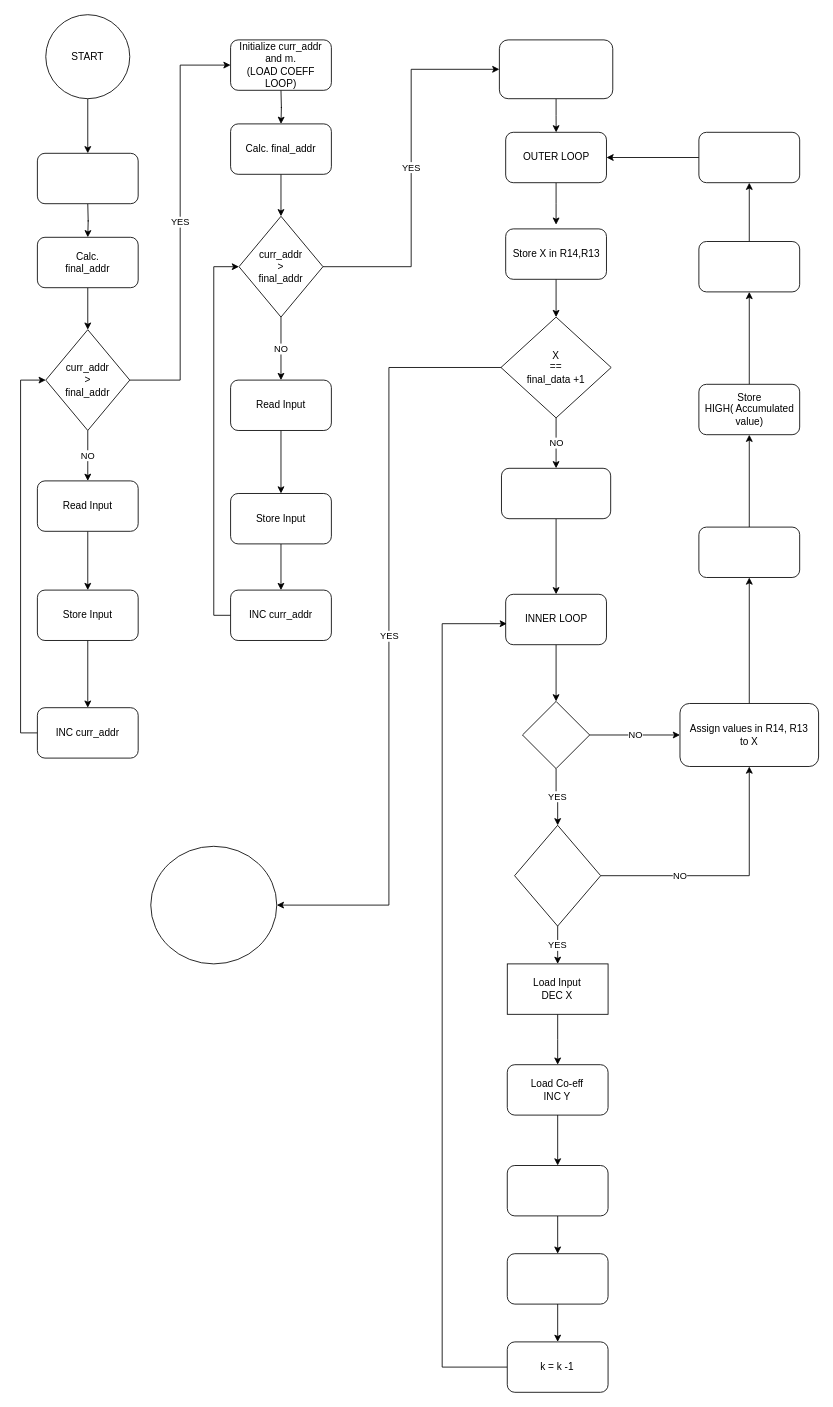
This 833x1407 diagram has some shape labels left out. Here are the shapes that lost their labels. From the top down, the centre of each, then its label:
At (556,69): "Initialize X = start_data Y = start_coeff Z = start_output".
At (749,157): "INC Z INC X".
At (87,178): "Initialize curr_addr and n. (LOAD INPUT CYCLE)".
At (749,266): "INC Z Store LOW ( Acc. value )".
At (556,493): "Initialize k = m".
At (749,552): "Set Y = start_coeff".
At (556,735): "k > 0".
At (557,875): "X > start_data".
At (213,904): "NOP".
At (557,1190): "MULS".
At (557,1278): "ADD / ACCUMULATE".
